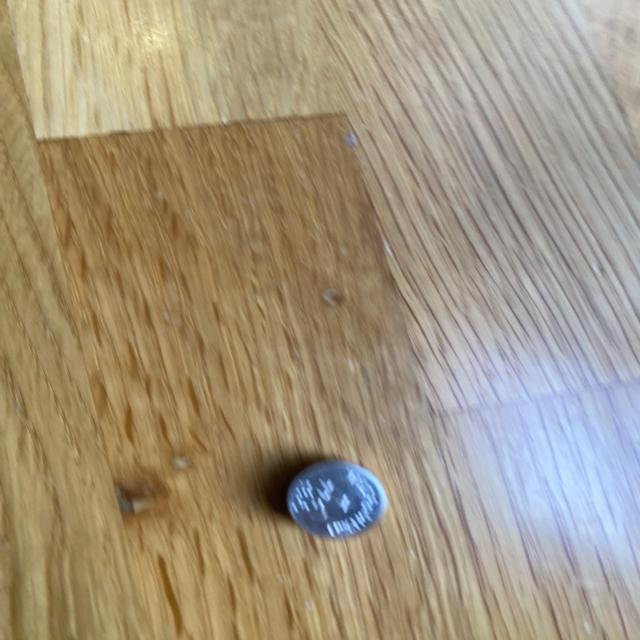COIN: (285, 459, 389, 539)
